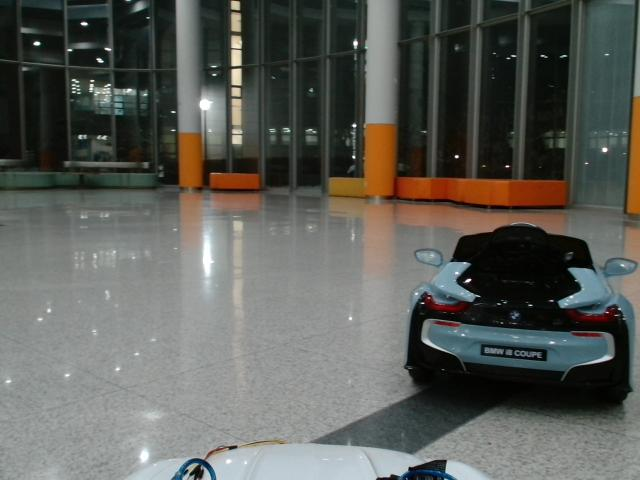car: (404, 223, 637, 407)
